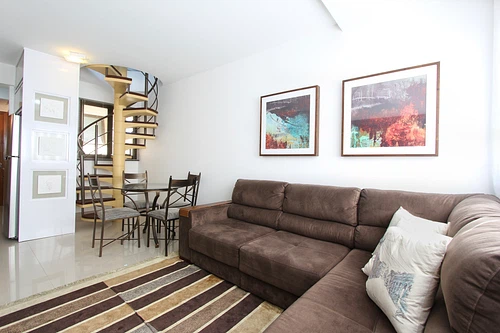dining table set: (85, 169, 201, 256)
sofa: (177, 177, 500, 333)
wall art: (338, 59, 441, 158), (255, 83, 320, 157), (29, 165, 69, 201), (32, 89, 70, 125), (33, 130, 70, 163)
